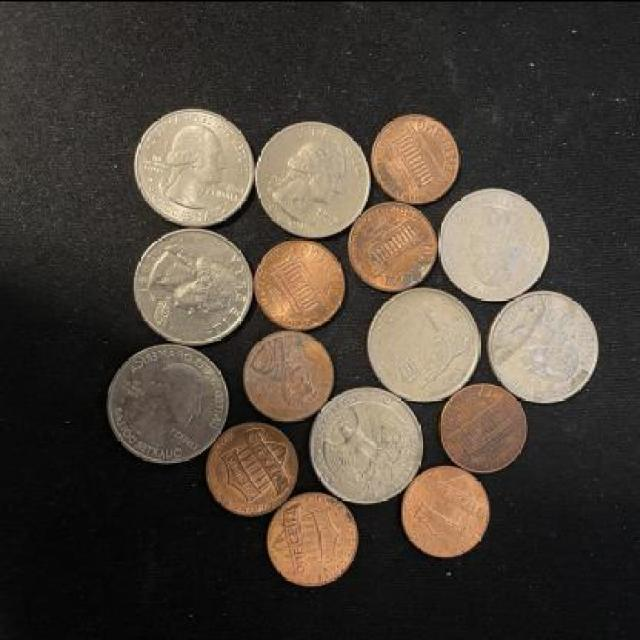Penny: (234, 328, 336, 422), (434, 378, 530, 477), (248, 240, 350, 332), (263, 490, 362, 584), (365, 109, 463, 203), (208, 420, 300, 517), (343, 202, 442, 290), (397, 466, 491, 557)
Quarter: (103, 340, 229, 466), (131, 105, 257, 229), (130, 226, 258, 346), (254, 118, 374, 240), (434, 183, 554, 303), (360, 286, 485, 400), (308, 386, 427, 503), (488, 290, 608, 404)
